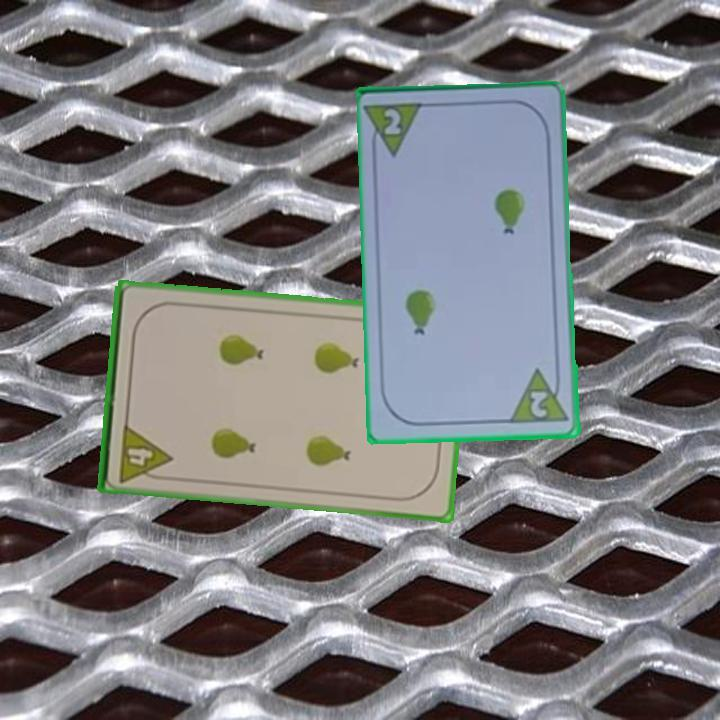2p: (507, 366, 572, 427), (380, 105, 404, 138)
4p: (115, 420, 174, 485)
